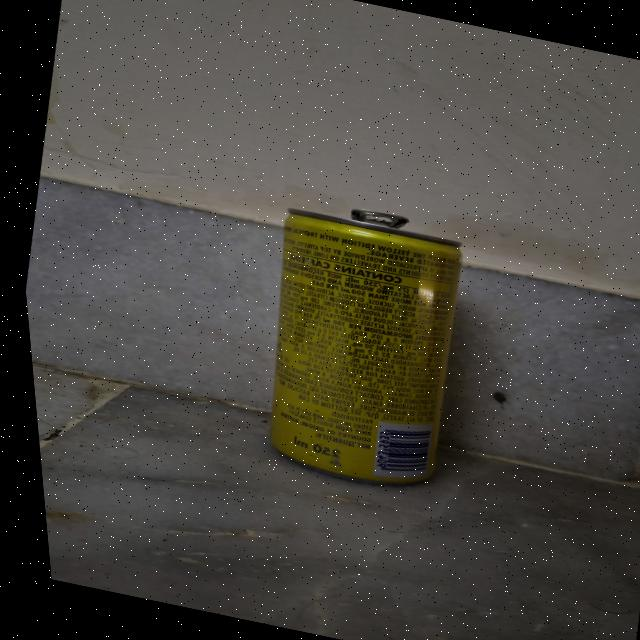Redbull Yellow Edition: (229, 197, 508, 512)
